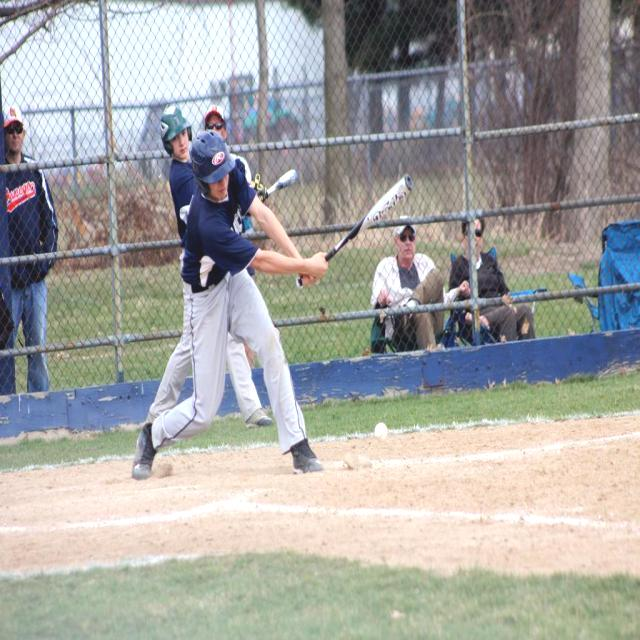baseball bat: (328, 172, 416, 258)
sports ball: (372, 423, 390, 441)
